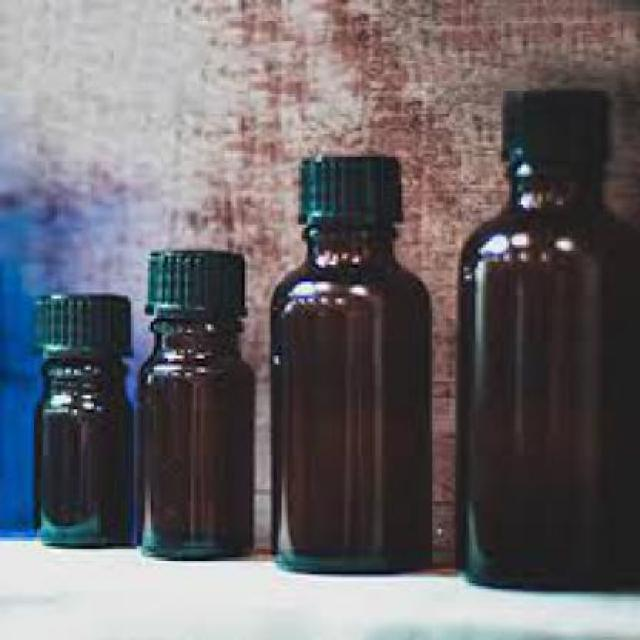kaca: (458, 160, 637, 583), (268, 222, 432, 576), (137, 317, 248, 558), (34, 352, 134, 546)
